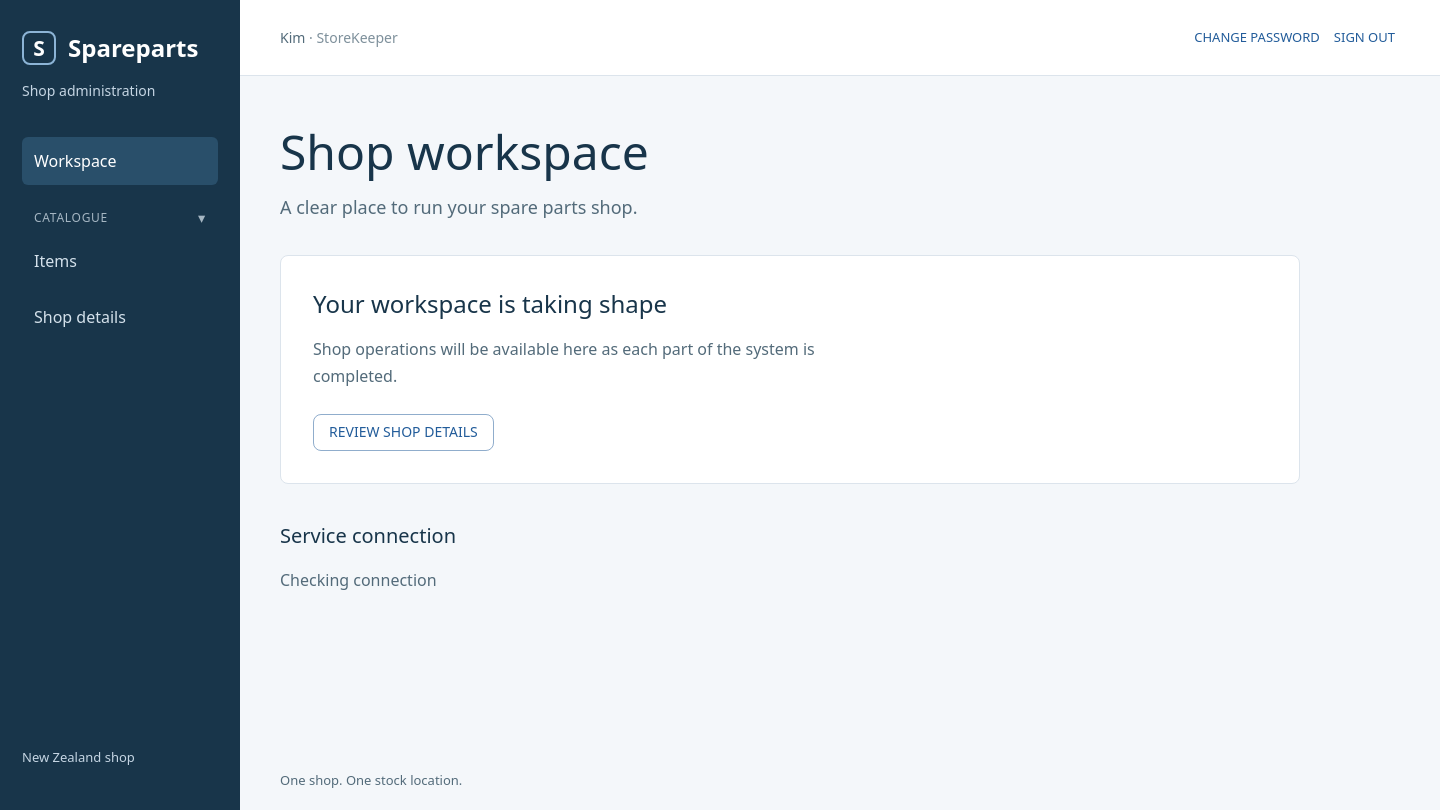
Test: restores the session on reload and builds the sidebar from the allowed menus
Expected: the heading "Shop workspace" is shown, [280, 119, 649, 184]
Expected: the link "Items" is shown, [34, 250, 77, 272]
Step 1. Click the link "Shop details" → (80, 317), box [34, 306, 126, 328]
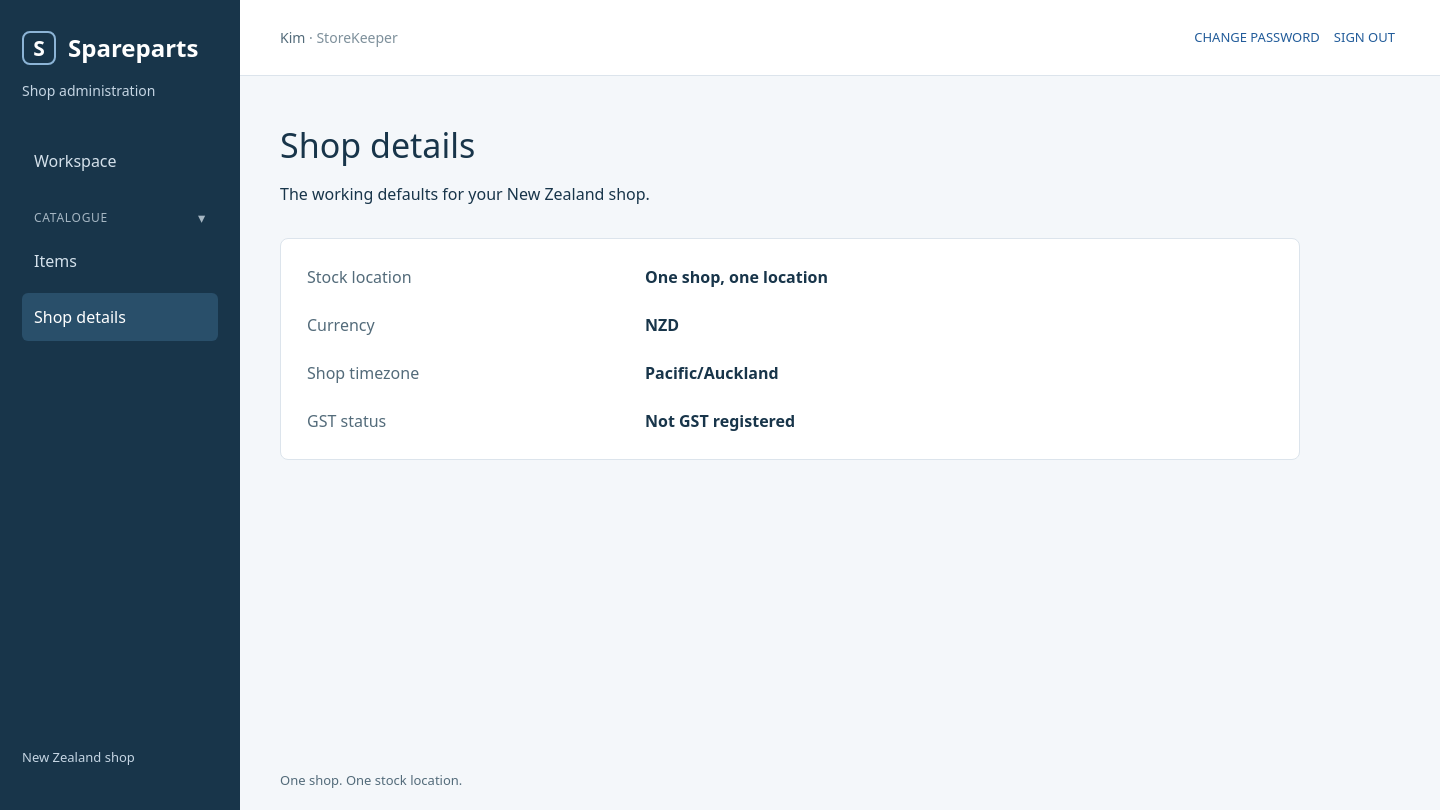
Expected: the text "Not GST registered" is shown, [645, 410, 795, 432]
